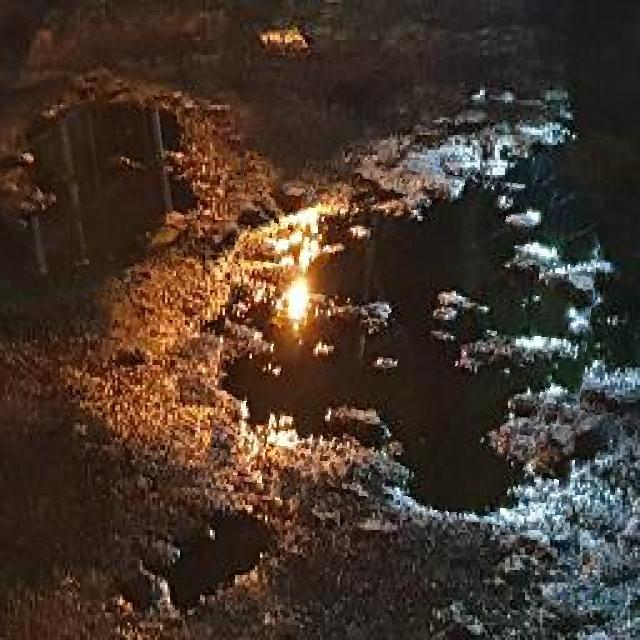puddle: (216, 162, 597, 523), (1, 98, 199, 299)
